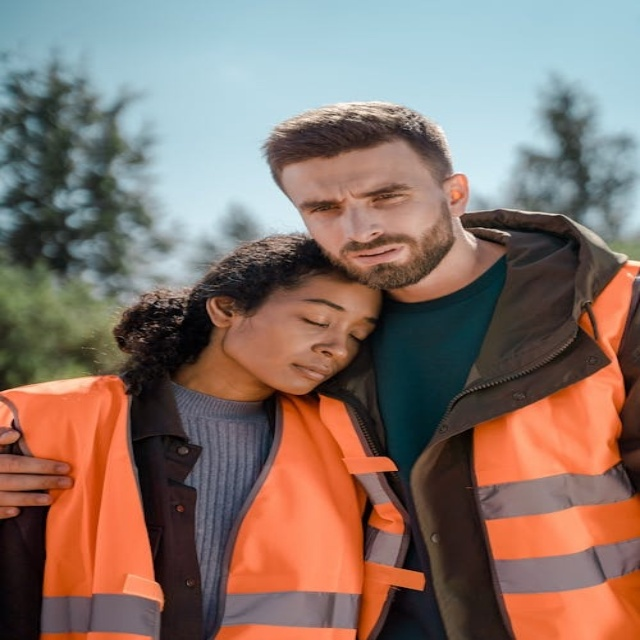Sin_gafas: (273, 293, 376, 347), (300, 174, 426, 214)
Sin_guantes: (0, 428, 73, 519)
Sin_mascara: (339, 226, 422, 288), (274, 352, 338, 395)
